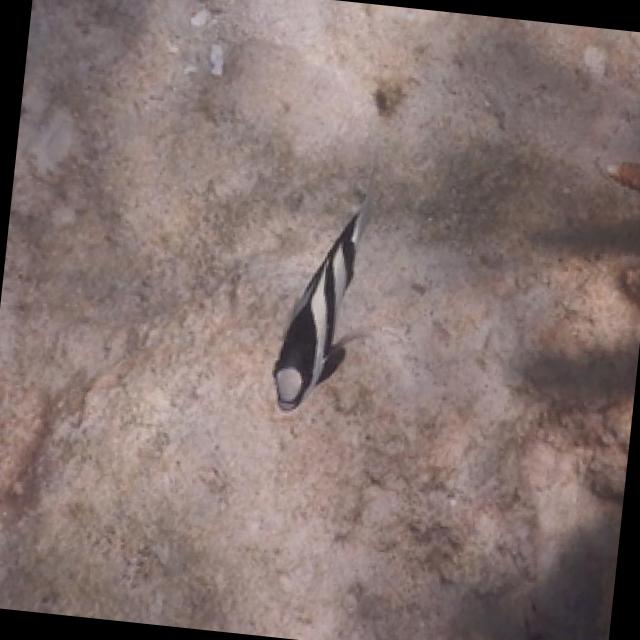Three_striped DasmselFish: (267, 188, 382, 423)
